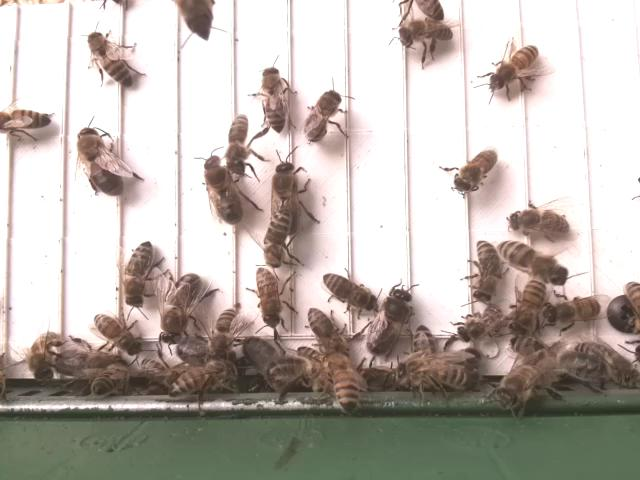Drone: (74, 123, 126, 197), (364, 286, 415, 359), (199, 155, 246, 226), (159, 272, 205, 343), (52, 345, 129, 381), (272, 159, 307, 235)
Worker: (496, 239, 567, 282), (484, 43, 542, 94), (86, 28, 134, 88), (118, 239, 157, 309), (320, 269, 380, 311), (451, 303, 507, 346), (466, 237, 502, 303), (304, 87, 344, 144), (450, 147, 498, 194), (92, 311, 141, 357), (505, 205, 572, 238), (253, 265, 285, 330), (260, 64, 289, 134), (395, 17, 456, 50), (307, 306, 344, 360), (209, 304, 244, 361), (262, 207, 294, 268), (511, 277, 544, 336), (0, 104, 52, 137), (226, 116, 254, 175), (546, 298, 602, 327)
